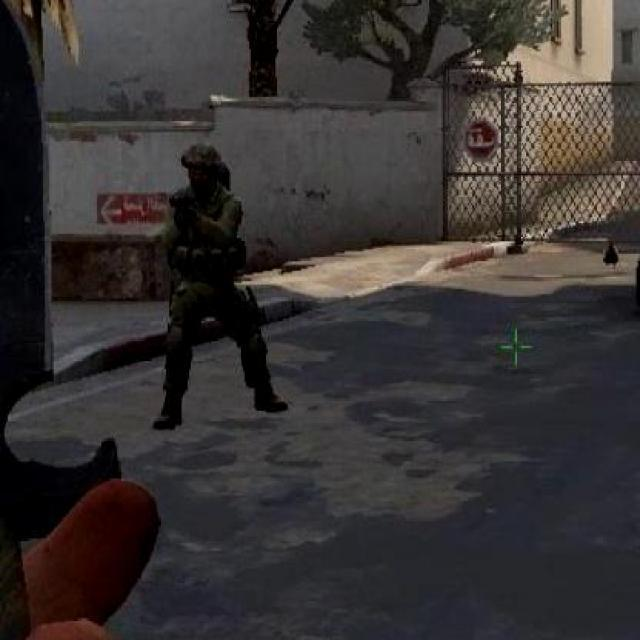CT: (147, 131, 276, 440)
CT_HEAD: (172, 142, 230, 204)
